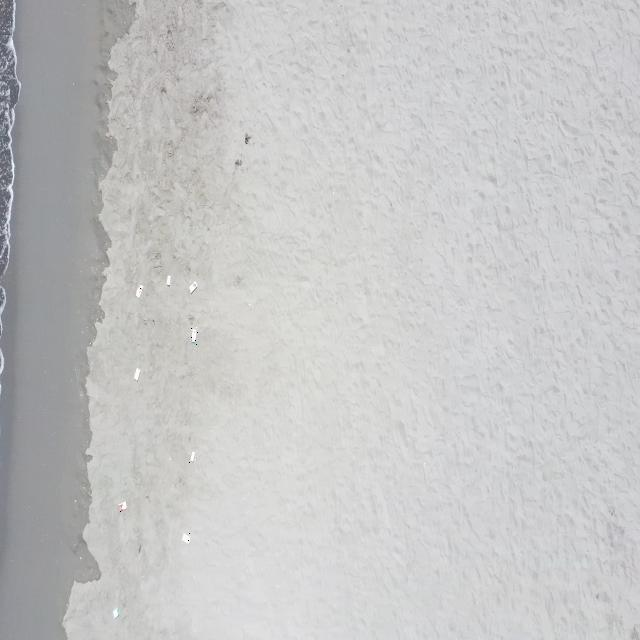Garbage: (135, 284, 143, 296), (181, 533, 190, 543), (188, 281, 196, 292), (188, 451, 195, 462), (118, 500, 125, 511), (191, 327, 196, 342), (134, 368, 140, 380), (111, 608, 118, 617), (166, 275, 169, 284)
